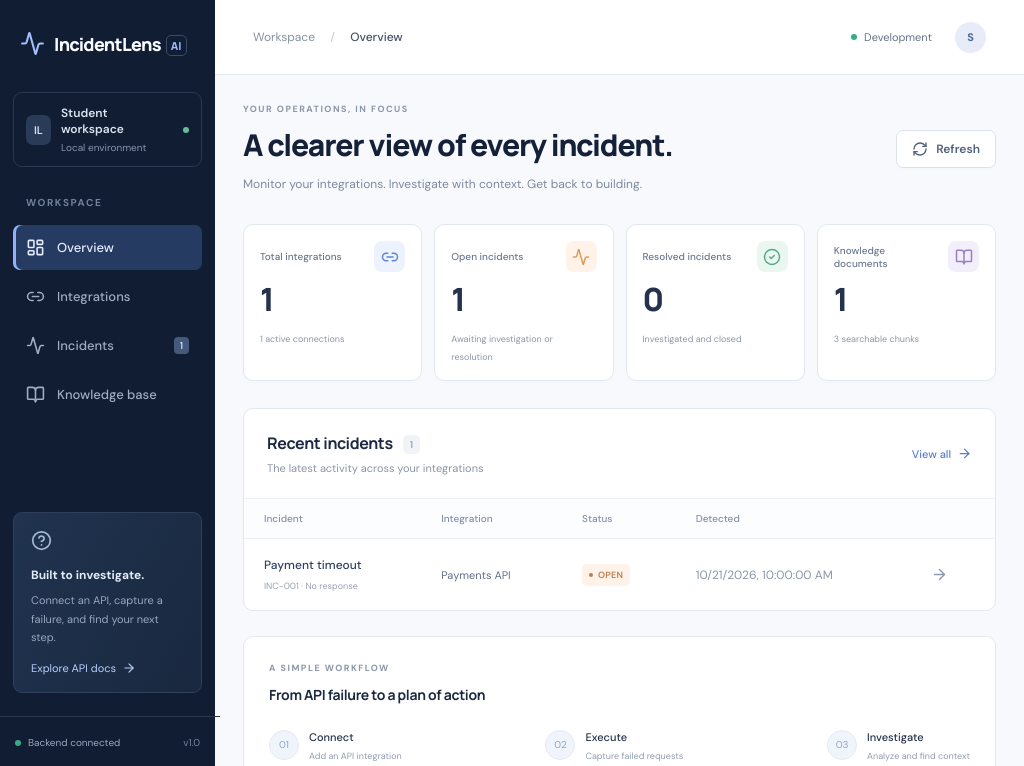
Test case: workspace › creates an integration through the form
Expected: the button "Payment timeout" is shown, [264,557,362,573]
Click the button "Integrations". click: (108, 296)
box: [13,274,202,319]
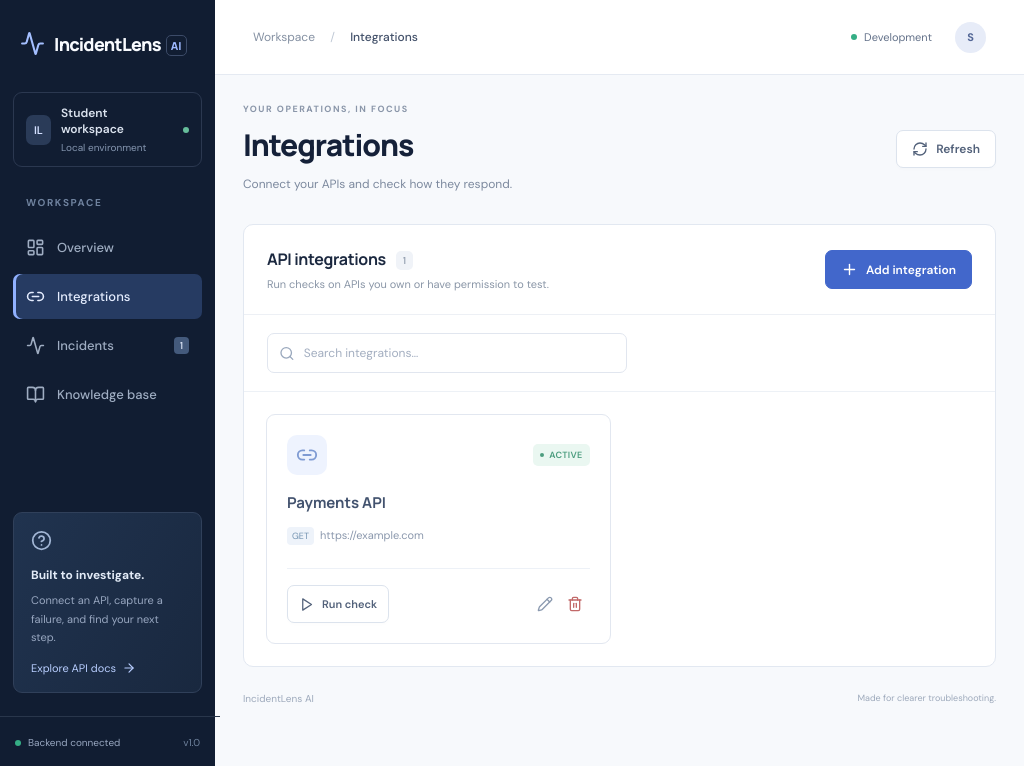
Click the button "Add integration". click: (898, 270)
box: [825,250,972,289]
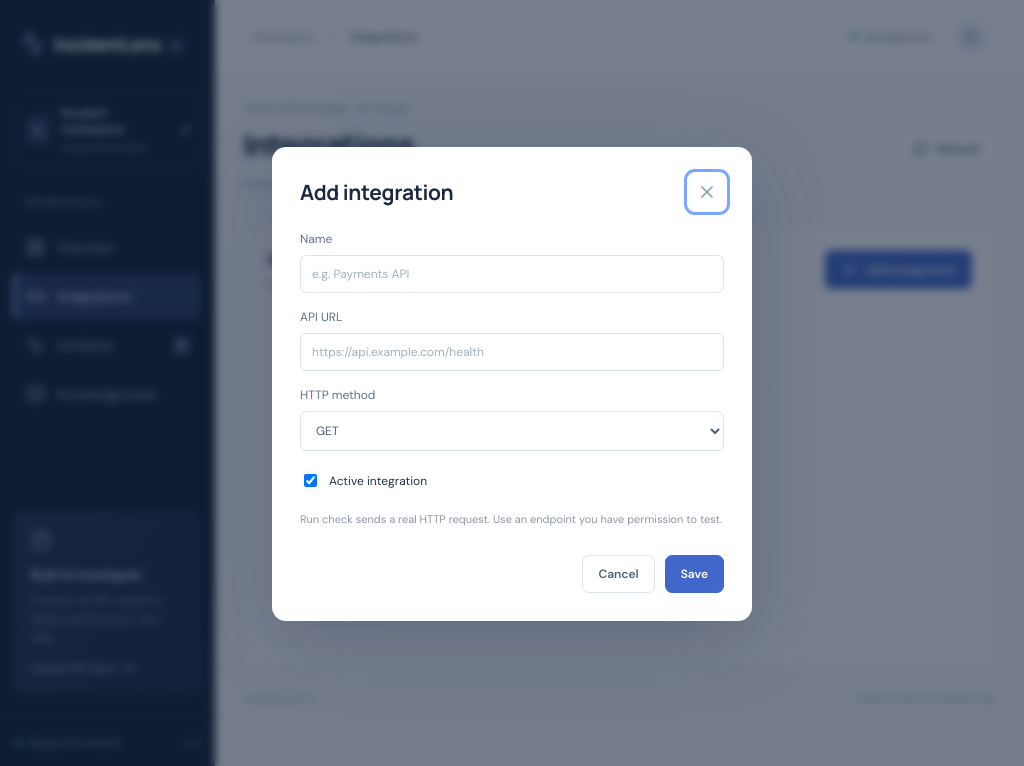
Type "Orders" into the field labelled "Name". click: (512, 274)
box: [300,255,724,293]
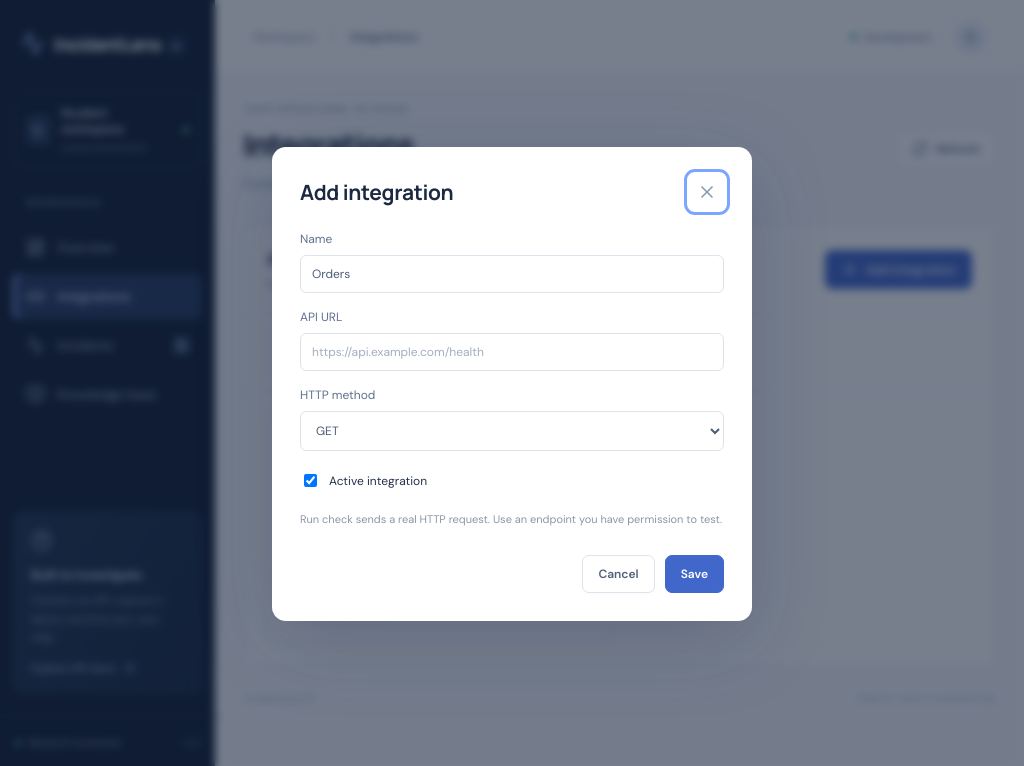
Type "https://example.com/orders" into the field labelled "API URL". click: (512, 352)
box: [300,333,724,371]
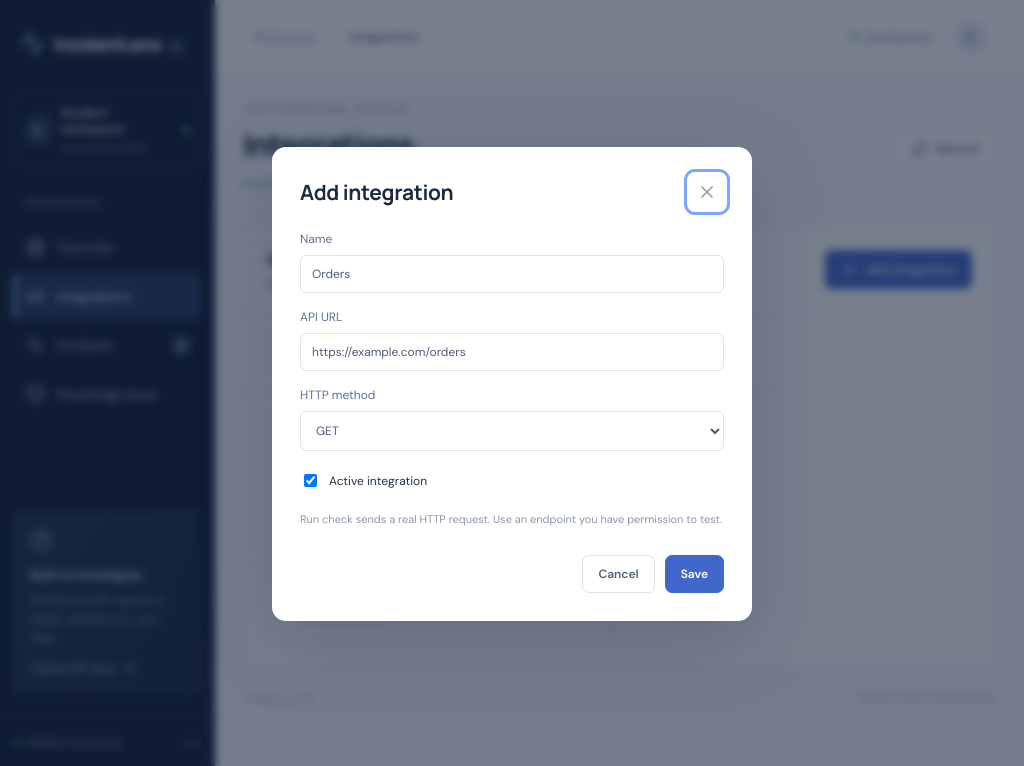
Click the button "Save". click: (694, 574)
box: [665,555,724,593]
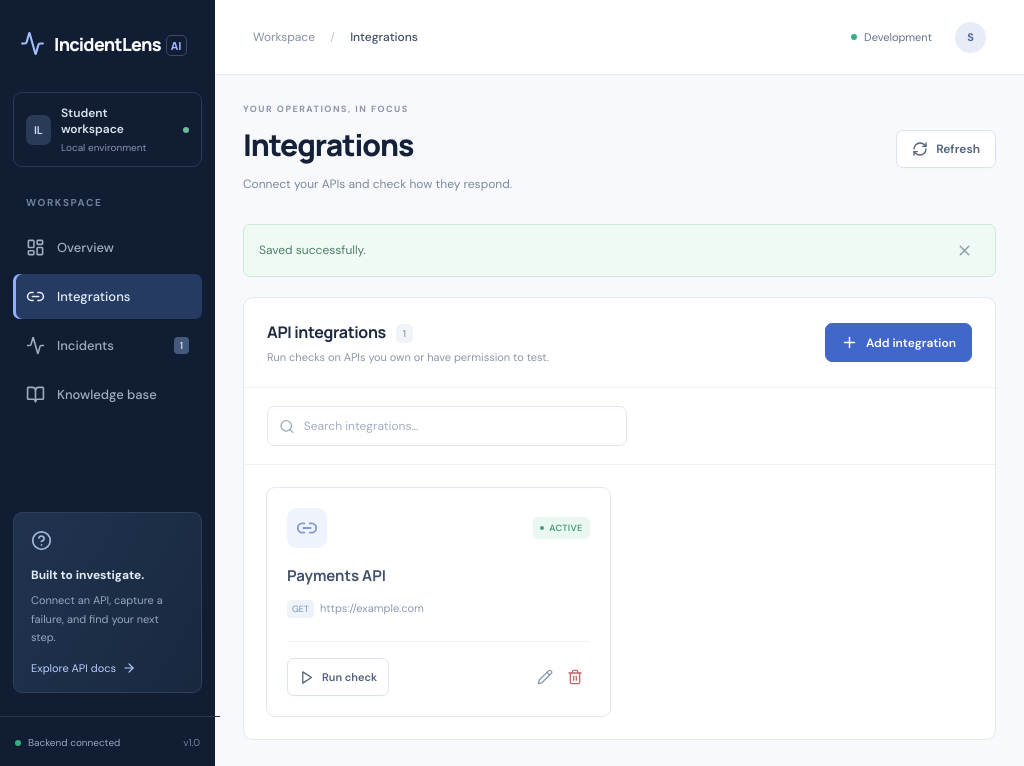
Result: the text "Saved successfully." is shown at [259,240,366,261]
